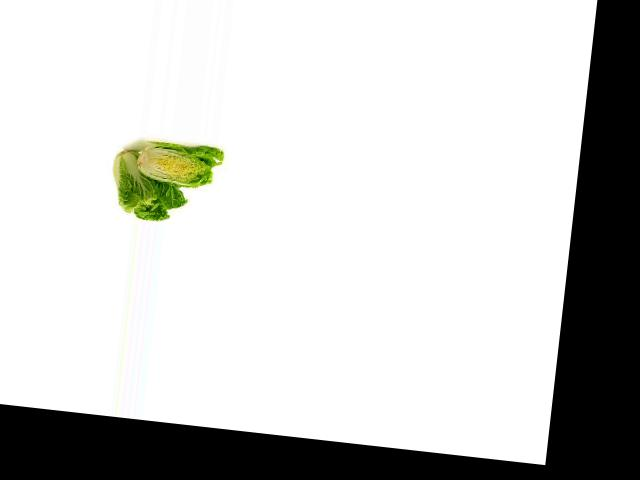lettuce: (105, 143, 197, 228)
